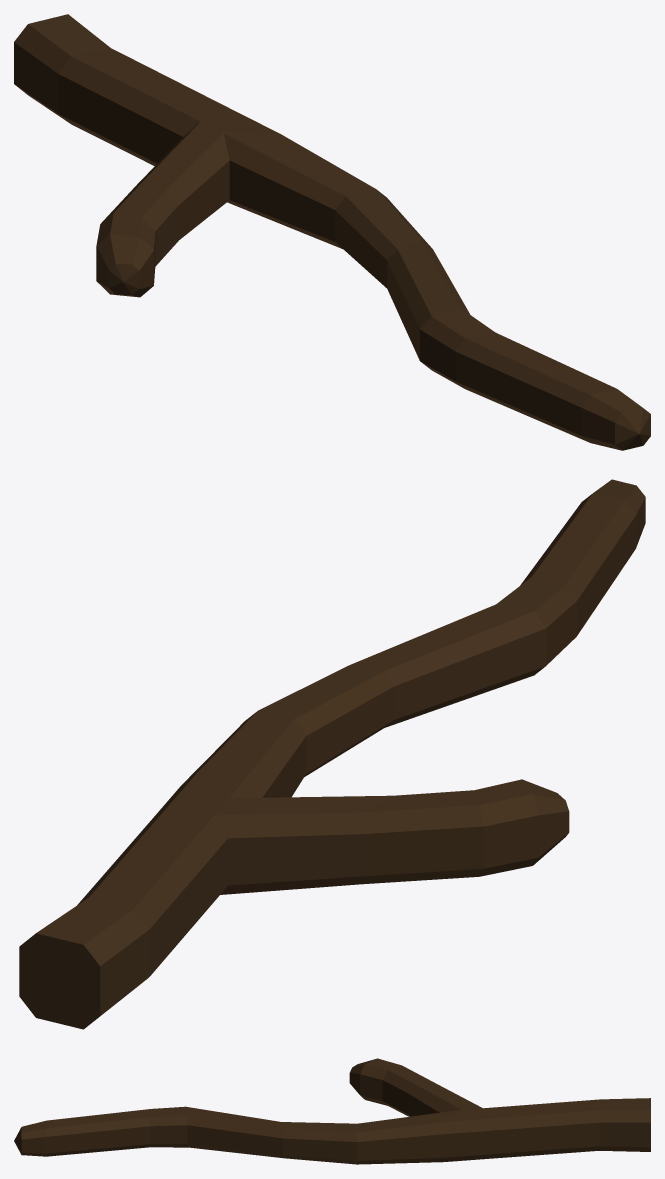
The model's file is branchModel.fbx.
The picture shows the model from 3 angles, top to bottom: view 1: azimuth 30°, elevation 25°; view 2: azimuth 150°, elevation 25°; view 3: azimuth 270°, elevation 25°; orthographic projection. The views are drawn at different scales.
Parts seen in each view (by area): view 1: branchModel; view 2: branchModel; view 3: branchModel.
Boxes of the visible parts, left/top/right/bottom form: branchModel: left=14, top=14, right=650, bottom=450; branchModel: left=19, top=479, right=645, bottom=1029; branchModel: left=14, top=1058, right=650, bottom=1164.
Bounding box in the file's own units: 3.7 × 0.915 × 12.47.
